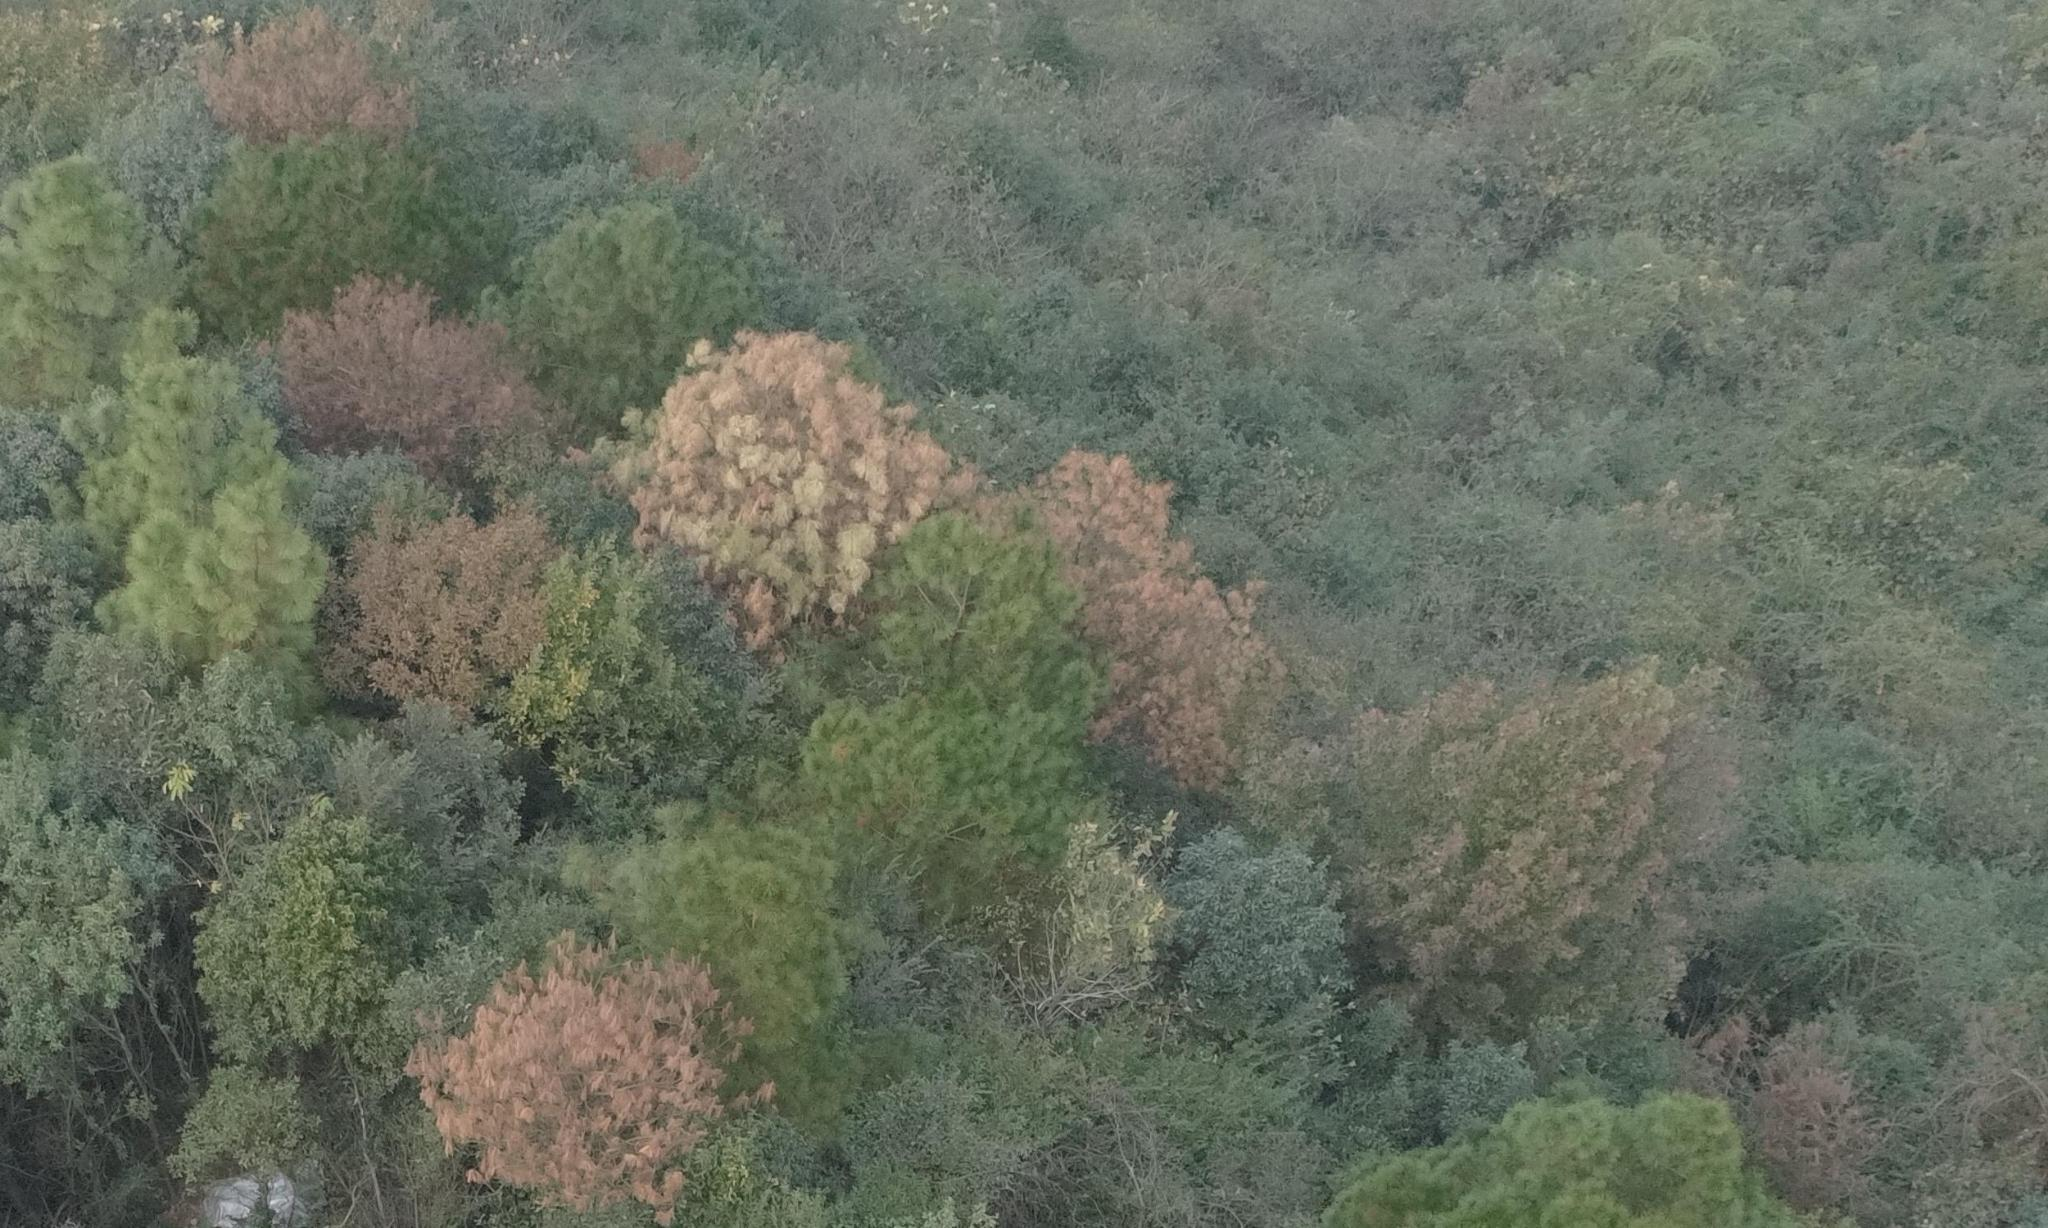heavy: (403, 937, 772, 1219), (639, 320, 949, 637), (1028, 444, 1254, 798), (272, 273, 522, 458), (205, 12, 417, 145)
